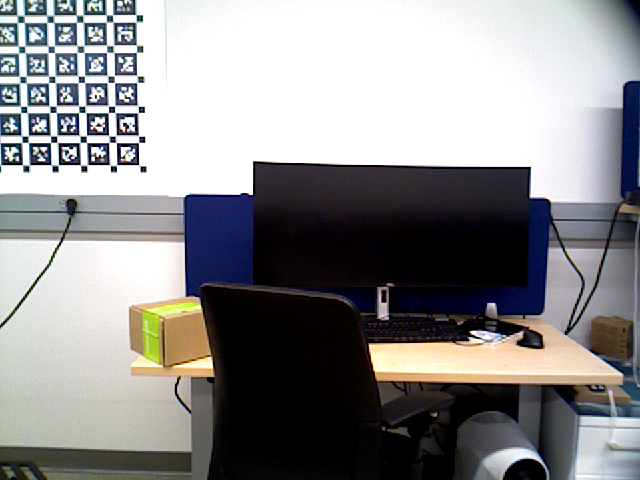painting4: (1, 1, 167, 196)
